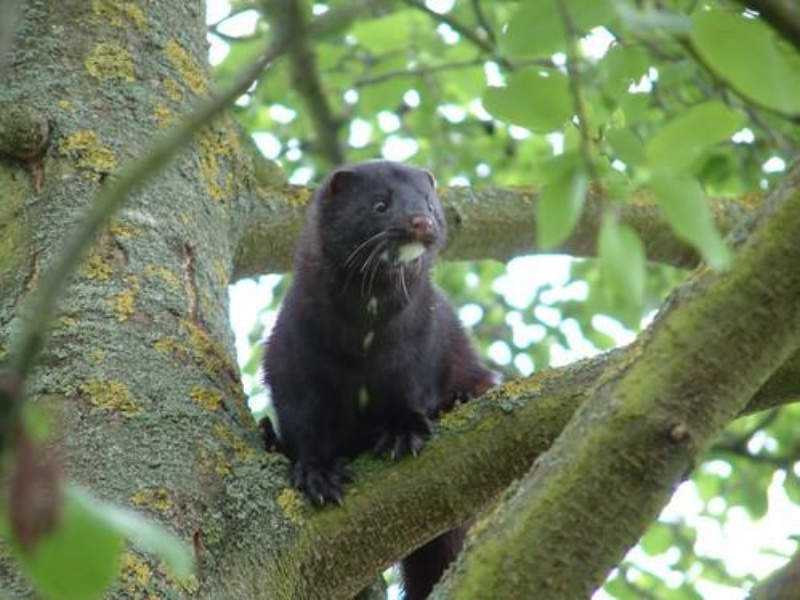minkish: (258, 159, 495, 505)
